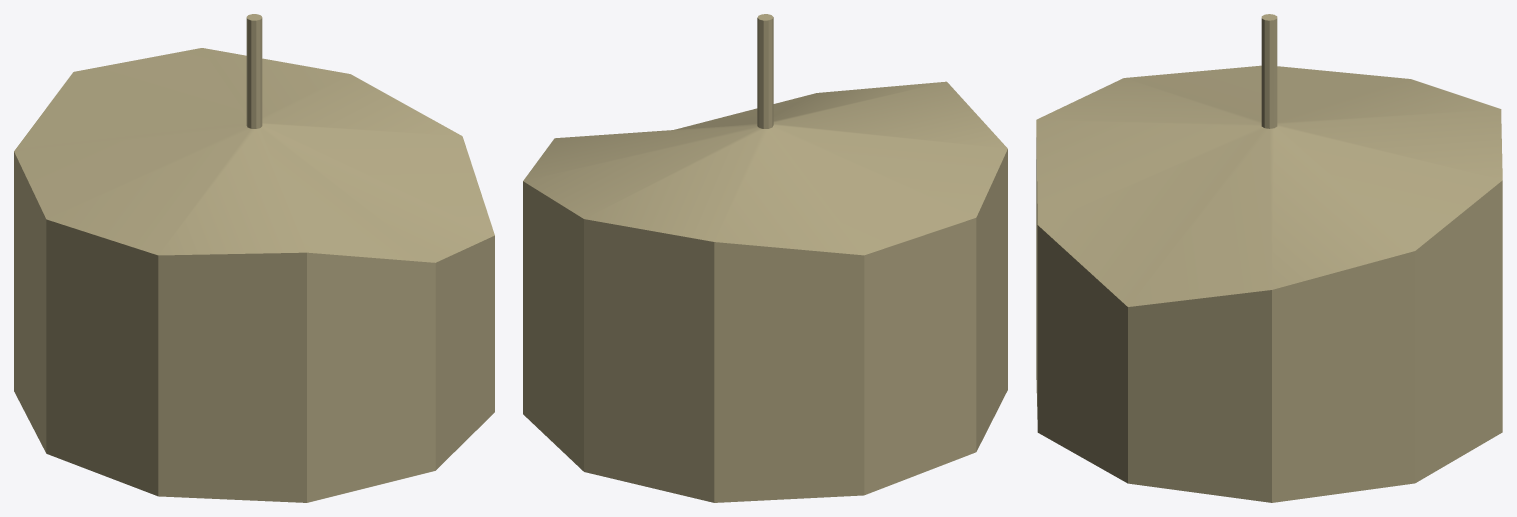
Rendered from Candle 6_OFF.fbx.
3 views of the same model, side by side, from view 1: azimuth 30°, elevation 25°; view 2: azimuth 150°, elevation 25°; view 3: azimuth 270°, elevation 25° (orthographic).
Parts seen in each view (by area): view 1: Candle 4.008; view 2: Candle 4.008; view 3: Candle 4.008.
Boxes of the visible parts, left/top/right/bottom form: Candle 4.008: left=14, top=14, right=494, bottom=502; Candle 4.008: left=523, top=14, right=1007, bottom=502; Candle 4.008: left=1036, top=14, right=1502, bottom=502.
Size of the model in its own units: 33.49 by 29.38 by 32.38.
